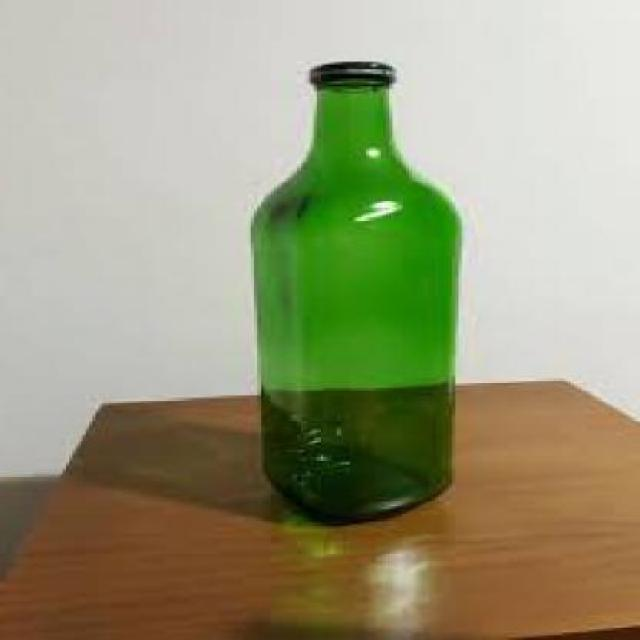GLASS: (253, 57, 464, 521)
